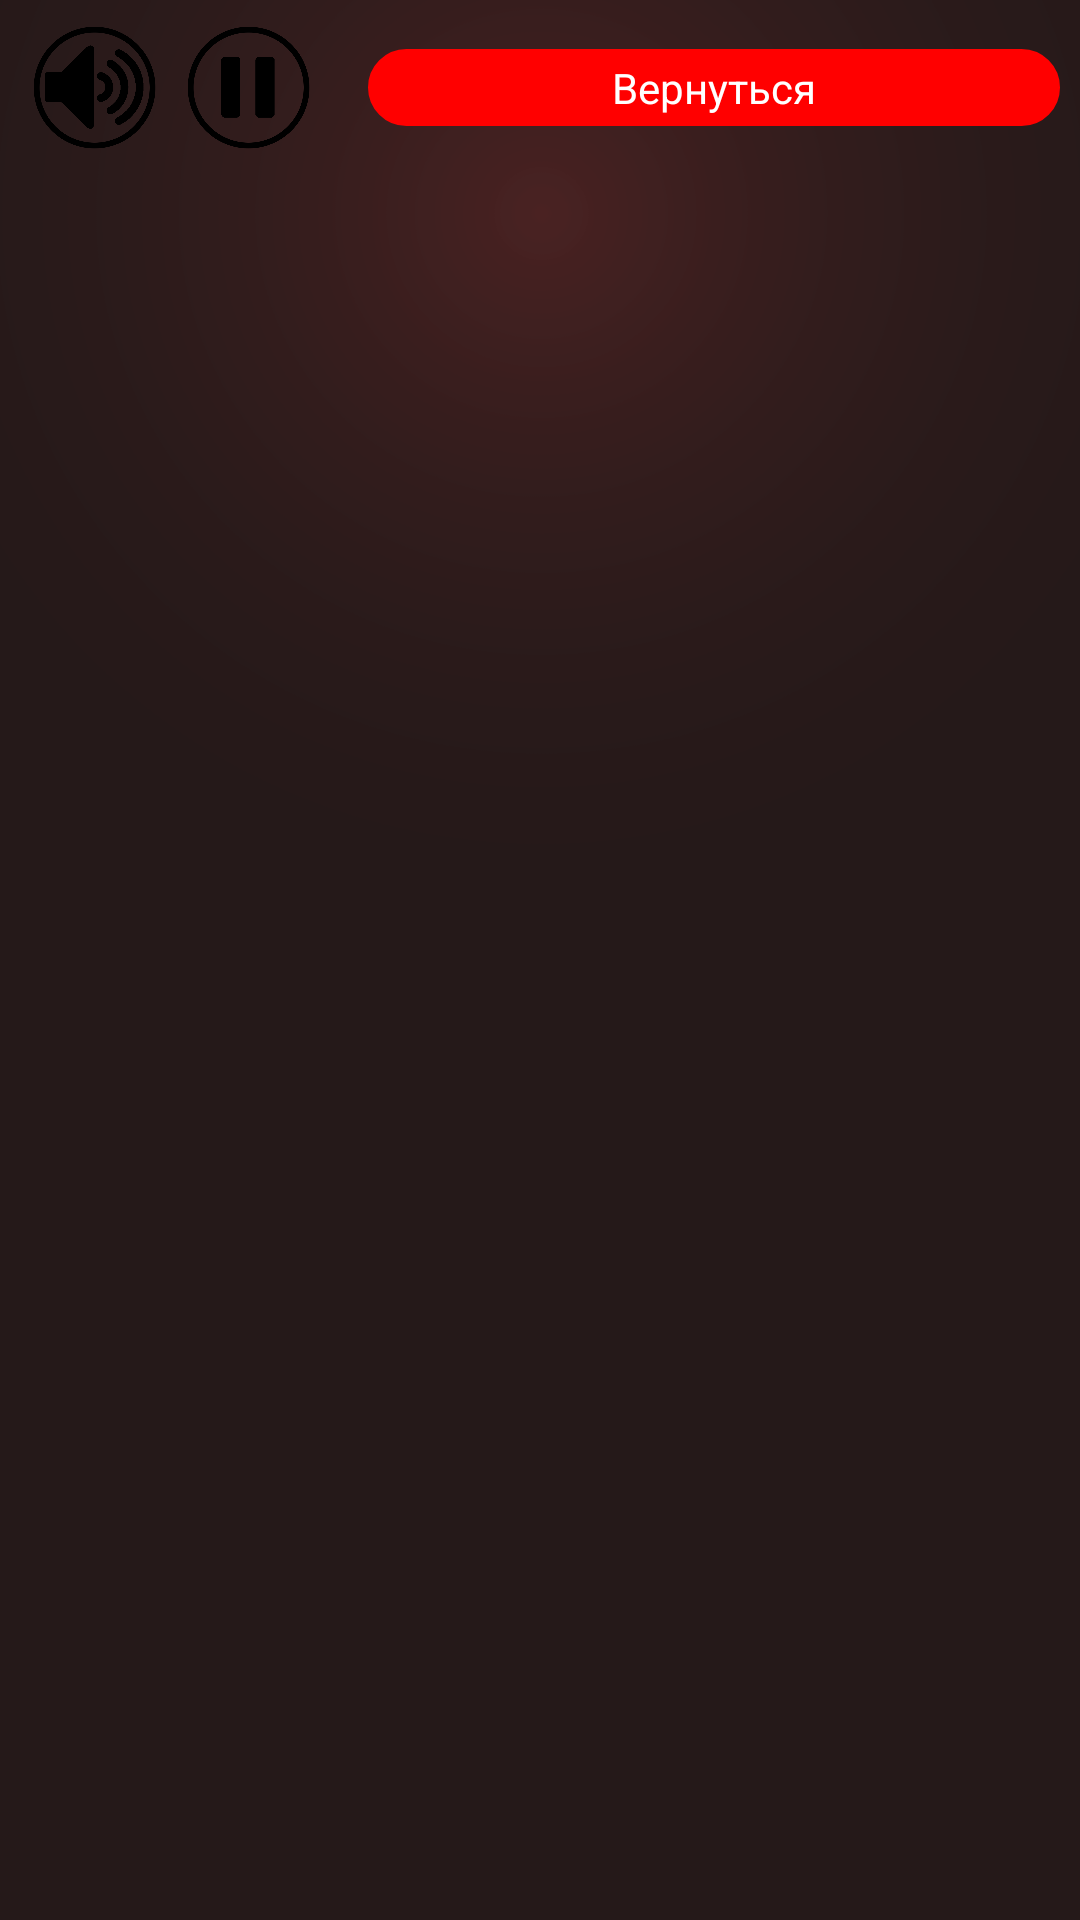

Icons on this 1080x1920 Android screen, each with its box as (x1,y1,x2,y2):
pause: (188,27,309,148)
sound: (34,27,155,148)
